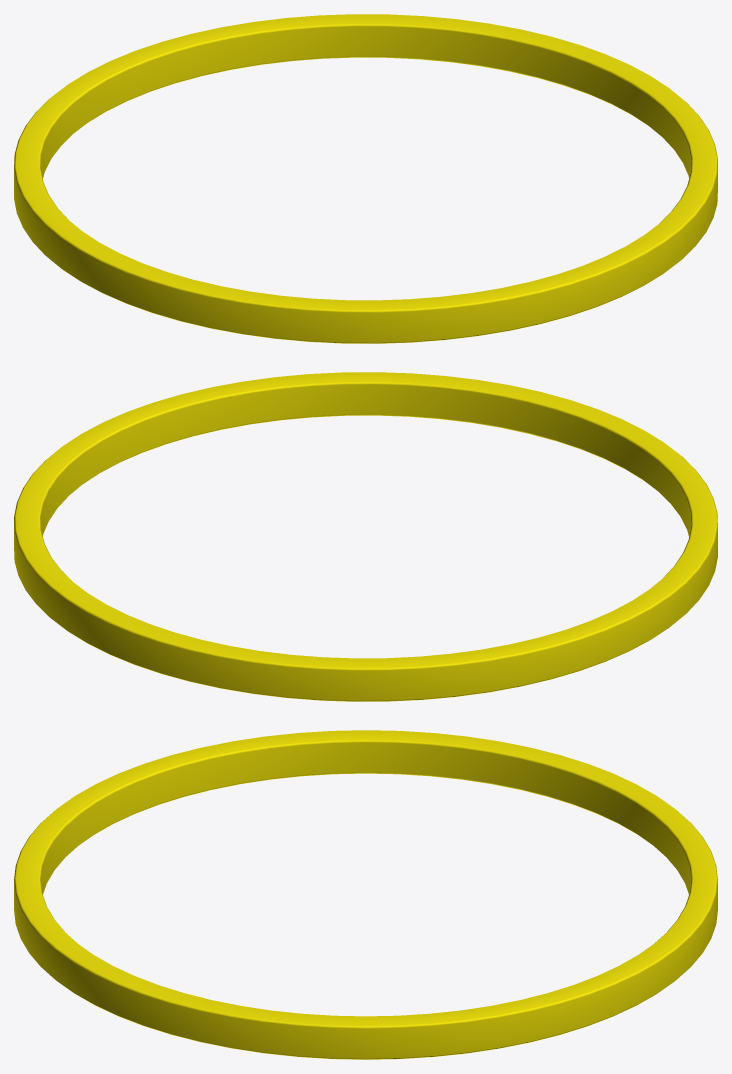
The picture shows the model from 3 angles, top to bottom: view 1: azimuth 30°, elevation 25°; view 2: azimuth 150°, elevation 25°; view 3: azimuth 270°, elevation 25°; orthographic projection.
Visible parts, largest first — view 1: seal_body; view 2: seal_body; view 3: seal_body.
Part boxes in pixels (<box>): seal_body: <box>14,14,717,343</box>; seal_body: <box>14,372,717,701</box>; seal_body: <box>14,730,717,1059</box>.
Size of the model in its own units: 0.1787 by 0.00952 by 0.1787.
